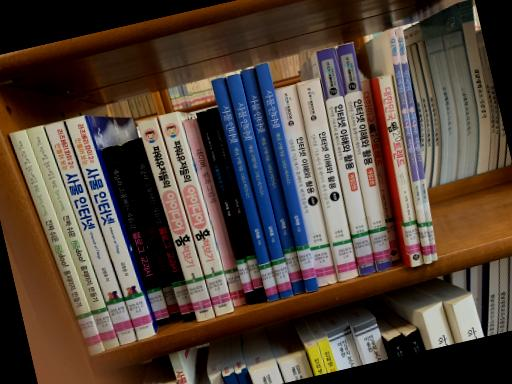book-spine: (7, 129, 104, 355), (26, 125, 119, 350), (44, 119, 136, 345), (65, 115, 155, 340), (137, 116, 215, 321), (157, 110, 234, 316), (211, 76, 279, 302), (226, 73, 293, 298), (254, 62, 319, 291), (241, 67, 305, 294), (335, 41, 393, 271), (317, 47, 375, 275), (127, 136, 197, 321), (296, 76, 359, 281), (100, 145, 171, 326), (274, 84, 337, 286), (205, 106, 267, 303), (182, 118, 246, 307), (195, 109, 256, 305), (117, 142, 182, 321), (387, 27, 432, 264), (396, 27, 438, 261), (378, 74, 423, 266), (360, 79, 401, 260)
